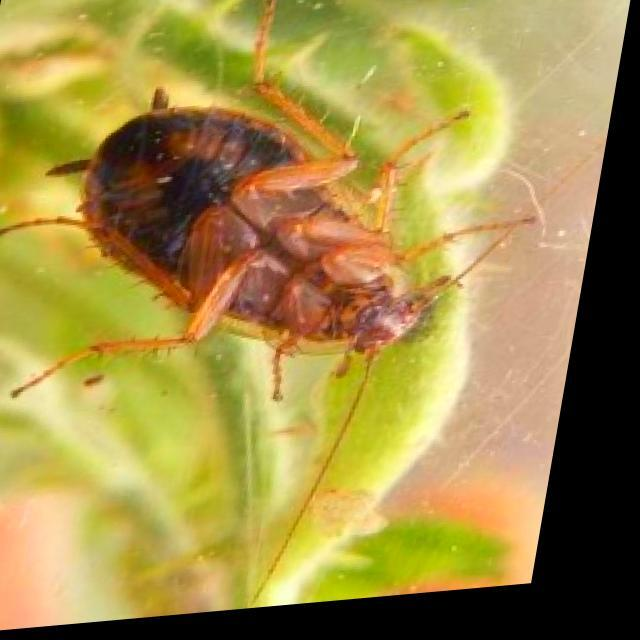cockroach: (24, 60, 459, 412)
